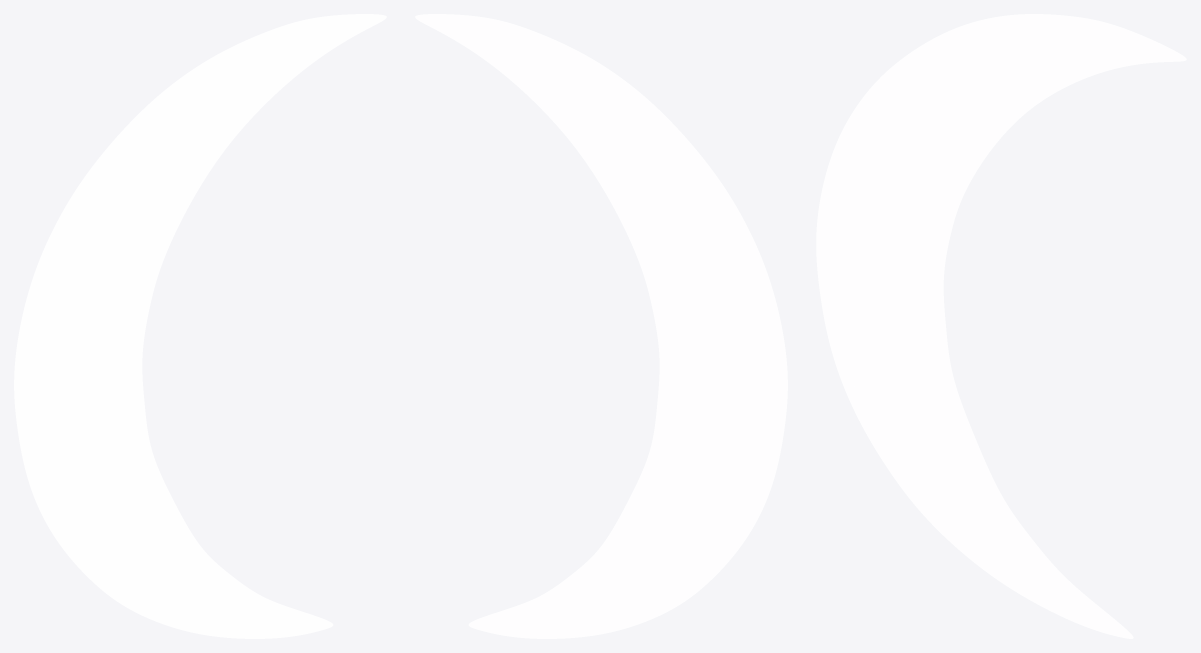
Rendered from swordHit.fbx.
3 views of the same model, side by side, from view 1: azimuth 30°, elevation 25°; view 2: azimuth 150°, elevation 25°; view 3: azimuth 330°, elevation 25° (orthographic).
Parts seen in each view (by area): view 1: Plane; view 2: Plane; view 3: Plane.
Part boxes in pixels (x1,y1,x2,y2): Plane: (14, 14, 386, 638); Plane: (415, 14, 787, 638); Plane: (816, 14, 1186, 638).
Bounding box in the file's own units: 220 × 347 × 2.21e-05.
